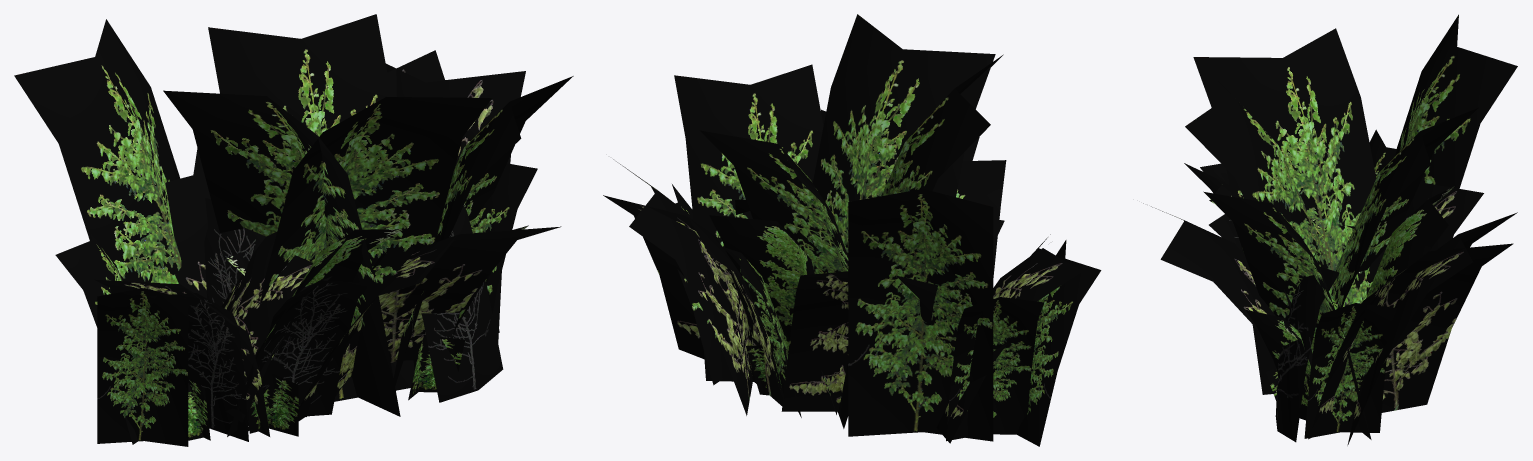
File: shrub_conservatory.dae
The picture shows the model from 3 angles, left to right: view 1: azimuth 30°, elevation 25°; view 2: azimuth 150°, elevation 25°; view 3: azimuth 270°, elevation 25°; orthographic projection. The views are drawn at different scales.
Visible parts, largest first — view 1: polySurface43, polySurface41, polySurface74, polySurface75, polySurface45, polySurface46, polySurface58, polySurface80, polySurface78, polySurface42, polySurface57, polySurface111 (+27 smaller); view 2: polySurface43, polySurface41, polySurface42, polySurface47, polySurface80, polySurface75, polySurface55, polySurface49, polySurface78, polySurface74, polySurface77, polySurface50 (+18 smaller); view 3: polySurface74, polySurface49, polySurface43, polySurface111, polySurface41, polySurface60, polySurface42, polySurface75, polySurface46, polySurface96, polySurface77, polySurface86 (+16 smaller).
Boxes of the visible parts, bbox=[...] form: polySurface43: bbox=[14, 19, 181, 283]; polySurface41: bbox=[260, 97, 491, 304]; polySurface74: bbox=[163, 90, 400, 416]; polySurface75: bbox=[208, 14, 414, 401]; polySurface45: bbox=[97, 288, 188, 446]; polySurface46: bbox=[298, 226, 561, 420]; polySurface58: bbox=[248, 280, 370, 430]; polySurface80: bbox=[16, 22, 181, 283]; polySurface78: bbox=[262, 97, 492, 299]; polySurface42: bbox=[393, 76, 573, 386]; polySurface57: bbox=[146, 293, 248, 441]; polySurface111: bbox=[165, 91, 399, 415]; polySurface43: bbox=[848, 189, 993, 441]; polySurface41: bbox=[813, 14, 995, 252]; polySurface42: bbox=[674, 64, 823, 381]; polySurface47: bbox=[781, 271, 937, 411]; polySurface80: bbox=[848, 189, 993, 440]; polySurface75: bbox=[700, 130, 848, 273]; polySurface55: bbox=[946, 297, 1044, 441]; polySurface49: bbox=[613, 159, 752, 415]; polySurface78: bbox=[815, 16, 993, 251]; polySurface74: bbox=[838, 54, 1003, 428]; polySurface77: bbox=[603, 195, 783, 405]; polySurface50: bbox=[709, 215, 814, 353]; polySurface74: bbox=[1193, 28, 1376, 394]; polySurface49: bbox=[1308, 243, 1513, 439]; polySurface43: bbox=[1395, 14, 1517, 188]; polySurface111: bbox=[1195, 29, 1374, 394]; polySurface41: bbox=[1185, 81, 1331, 366]; polySurface60: bbox=[1304, 303, 1397, 438]; polySurface42: bbox=[1203, 191, 1371, 439]; polySurface75: bbox=[1331, 107, 1478, 308]; polySurface46: bbox=[1143, 203, 1279, 356]; polySurface96: bbox=[1275, 250, 1339, 442]; polySurface77: bbox=[1347, 212, 1517, 445]; polySurface86: bbox=[1309, 244, 1511, 438].
Size of the model in its own units: 4.23 by 2.85 by 3.44.
Materials: 1 (1 with a texture image).
